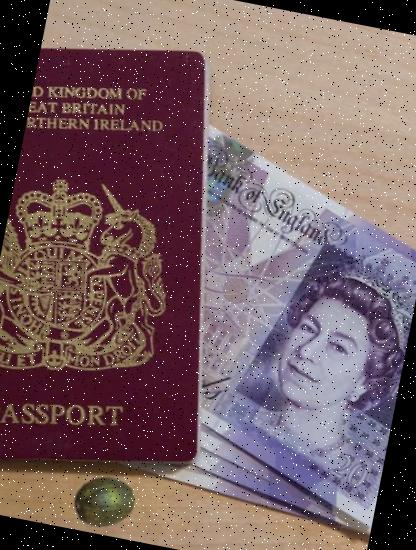Melon: (68, 465, 140, 536)
